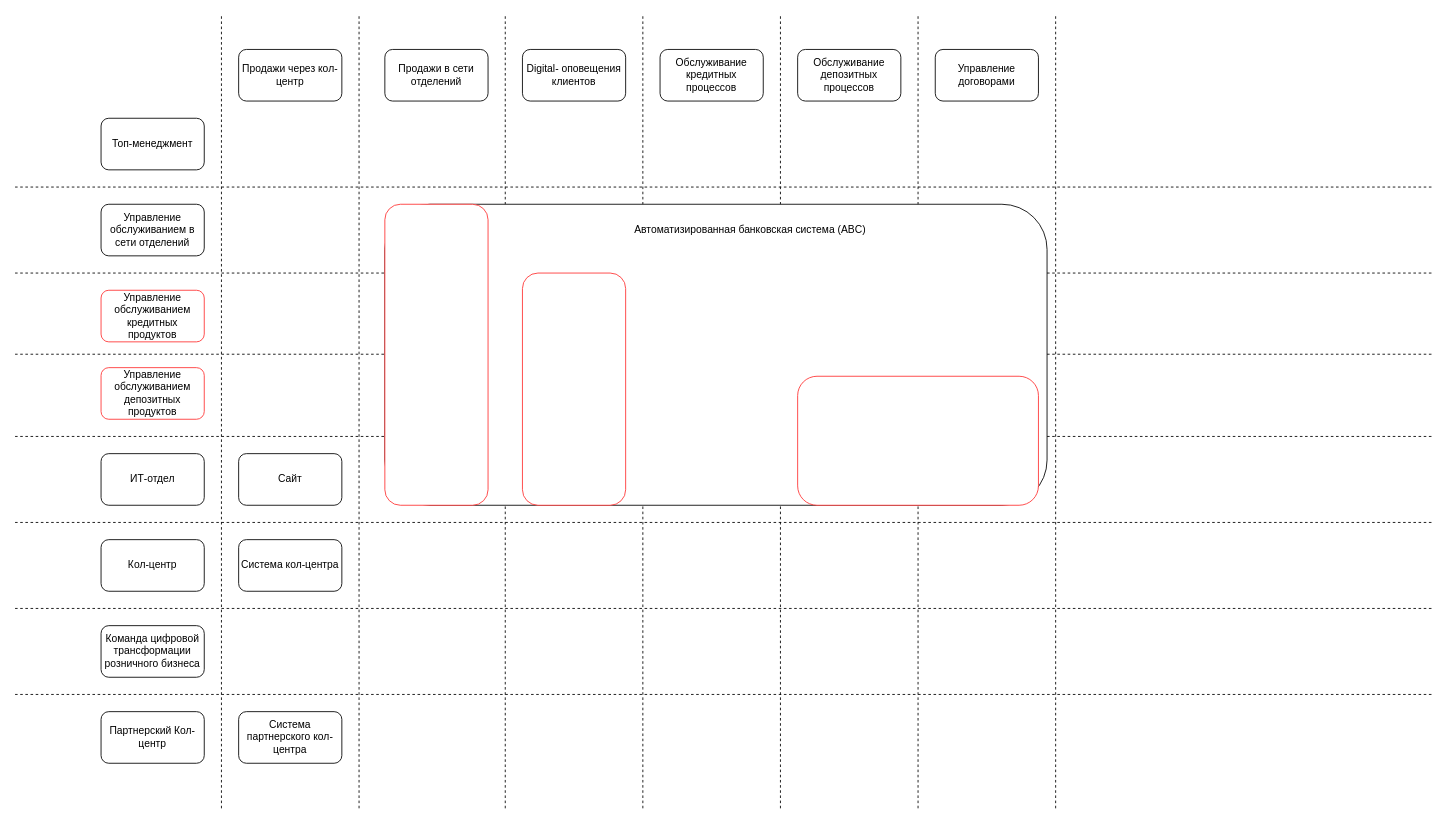
This 1450x825 diagram has some shape labels left out. Here are the shapes that lost their labels. From the top down, the centre of each, then its label:
the point at 436,354: Почта
the point at 574,388: СМС-ШЛЮЗ телеком оператора
the point at 917,440: Интернет банк
